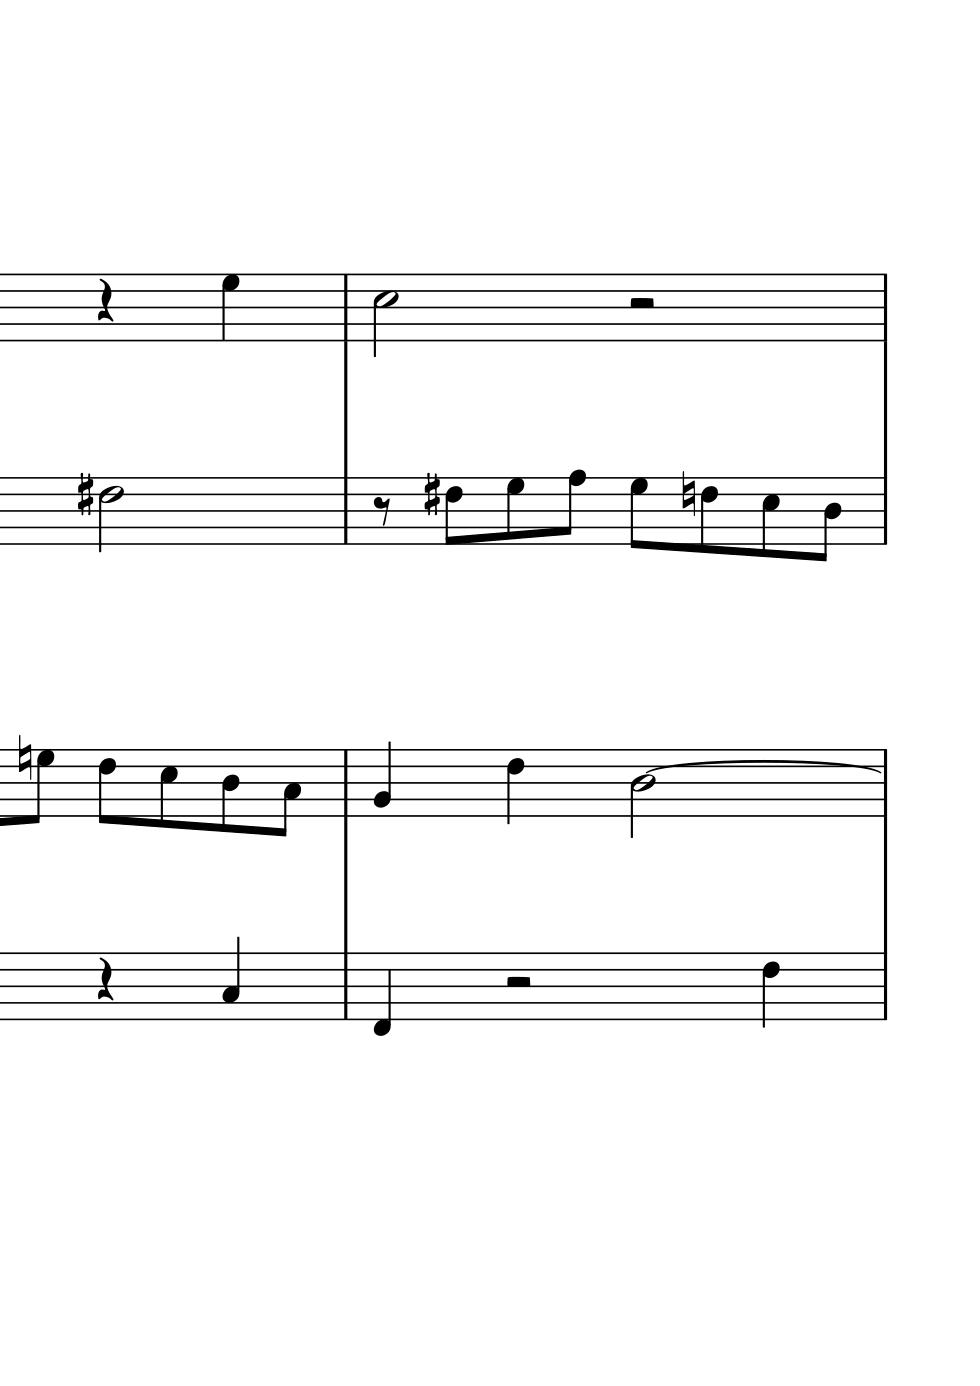2_4: (629, 749, 657, 839)
2_5: (370, 271, 397, 357)
2_6: (97, 476, 123, 554)
4_-1: (370, 951, 392, 1037)
4_2: (371, 740, 393, 818)
4_3: (220, 936, 241, 1020)
4_6: (504, 747, 525, 826), (760, 950, 780, 1029)
4_7: (218, 271, 241, 343)
8_3: (272, 747, 301, 839)
8_4: (813, 476, 842, 564), (218, 747, 241, 836)
8_5: (157, 747, 179, 830), (759, 475, 781, 560)
8_6: (698, 475, 719, 557), (97, 747, 117, 827), (443, 475, 463, 547)
8_7: (27, 747, 54, 825), (504, 476, 526, 546), (628, 476, 648, 551)
8_8: (556, 467, 587, 547)
Natural: (16, 733, 33, 783), (679, 470, 696, 519)
Rests2: (503, 975, 533, 992), (626, 296, 657, 311)
Rests4: (93, 277, 116, 324), (95, 955, 113, 1002)
Rests8: (371, 495, 393, 528)
Sharp: (74, 470, 94, 519), (422, 472, 441, 517)
Single_barline: (337, 274, 356, 343), (337, 750, 355, 817), (337, 952, 354, 1020), (337, 478, 354, 544), (876, 953, 892, 1019), (877, 274, 892, 341), (877, 477, 892, 545), (878, 749, 892, 818)
Slur: (647, 757, 882, 773)
